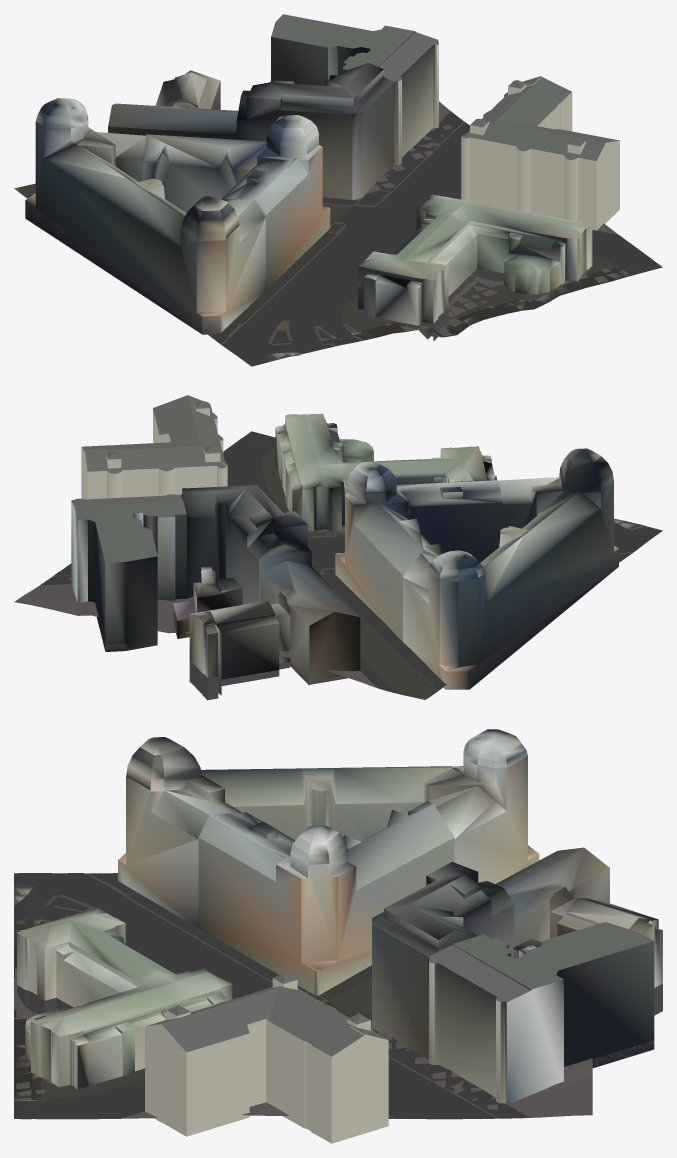
3 views of the same model, one above another, from view 1: azimuth 30°, elevation 25°; view 2: azimuth 150°, elevation 25°; view 3: azimuth 270°, elevation 25° (orthographic). The views are drawn at different scales.
Parts seen in each view (by area): view 1: c_m01_m10; view 2: c_m01_m10; view 3: c_m01_m10.
Boxes of the visible parts, x1,y1,x2,y2 form: c_m01_m10: (14, 14, 662, 366); c_m01_m10: (14, 395, 662, 700); c_m01_m10: (14, 729, 662, 1143).
Size of the model in its own units: 145 by 41.86 by 144.
